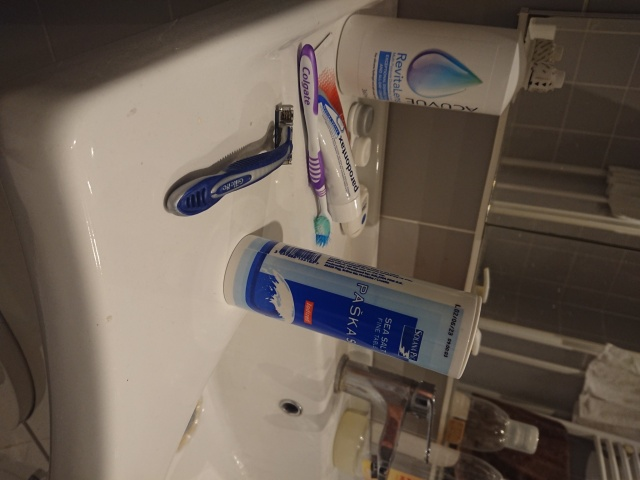Solana Pag Fine Sea Salt 250g: (221, 232, 484, 382)
